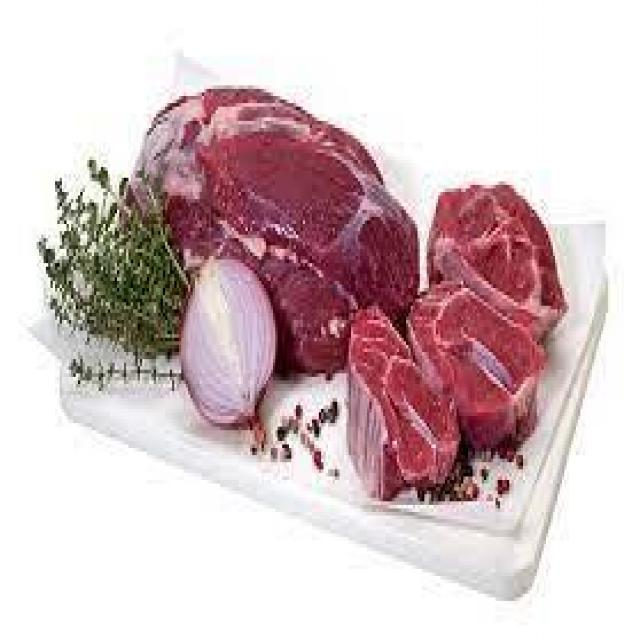beef: (177, 66, 449, 276)
